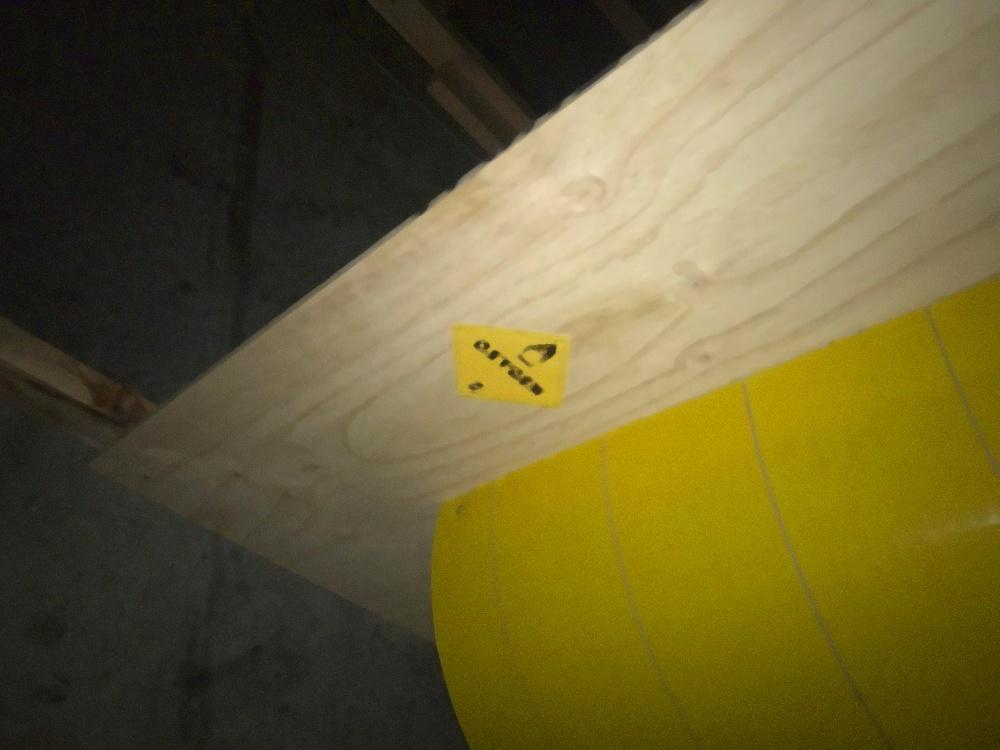oxidizer: (452, 323, 571, 410)
